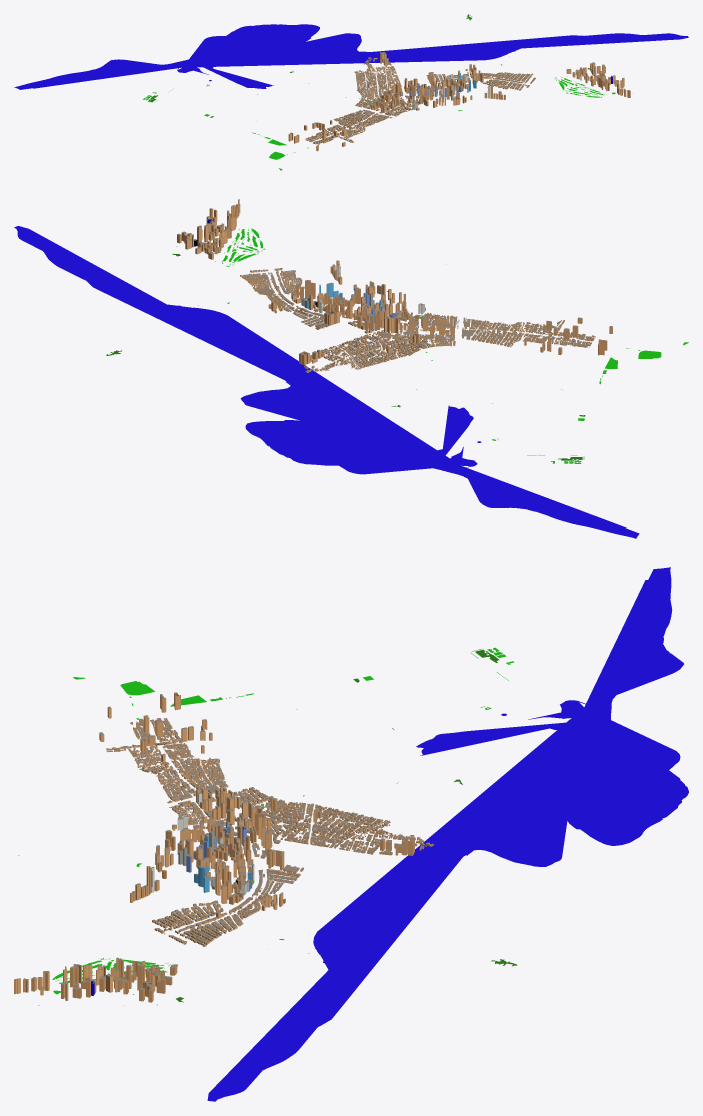
The model's file is jeeprouteEdit_2.fbx.
3 renders of one model, top to bottom at view 1: azimuth 30°, elevation 25°; view 2: azimuth 150°, elevation 25°; view 3: azimuth 270°, elevation 25°, orthographic. The views are drawn at different scales.
Parts seen in each view (by area): view 1: map_10.osm_water, TallBuildings, Shared, PRC2LRT, Buendia, map_10.osm_vegetation; view 2: map_10.osm_water, TallBuildings, Shared, PRC2LRT, Buendia, map_10.osm_vegetation; view 3: map_10.osm_water, TallBuildings, Shared, PRC2LRT, Buendia, map_10.osm_vegetation.
Boxes of the visible parts, box(x1,y1,x2,y2) form: map_10.osm_water: box(14, 24, 688, 89); TallBuildings: box(288, 52, 630, 151); Shared: box(257, 80, 434, 131); PRC2LRT: box(305, 57, 399, 145); Buendia: box(426, 71, 535, 90); map_10.osm_vegetation: box(143, 56, 615, 170); map_10.osm_water: box(14, 226, 639, 538); TallBuildings: box(177, 199, 612, 365); Shared: box(348, 310, 524, 403); PRC2LRT: box(304, 320, 595, 372); Buendia: box(240, 268, 353, 329); map_10.osm_vegetation: box(176, 228, 688, 463); map_10.osm_water: box(38, 567, 688, 1101); TallBuildings: box(14, 692, 414, 1002); Shared: box(139, 728, 394, 862); PRC2LRT: box(106, 718, 434, 855); Buendia: box(152, 858, 303, 946); map_10.osm_vegetation: box(18, 647, 514, 1005).
Bounding box in the file's own units: 1165873 × 31466 × 622317.
